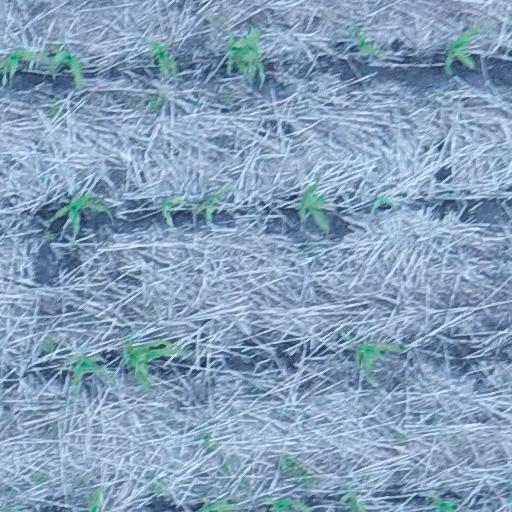planta: (124, 337, 181, 388), (49, 191, 109, 238), (223, 26, 266, 87), (45, 46, 85, 88), (298, 181, 331, 231), (355, 341, 408, 372), (445, 28, 480, 73), (70, 355, 110, 390), (193, 187, 230, 222), (160, 194, 187, 225), (152, 41, 177, 72), (354, 31, 384, 56), (370, 194, 397, 214)
